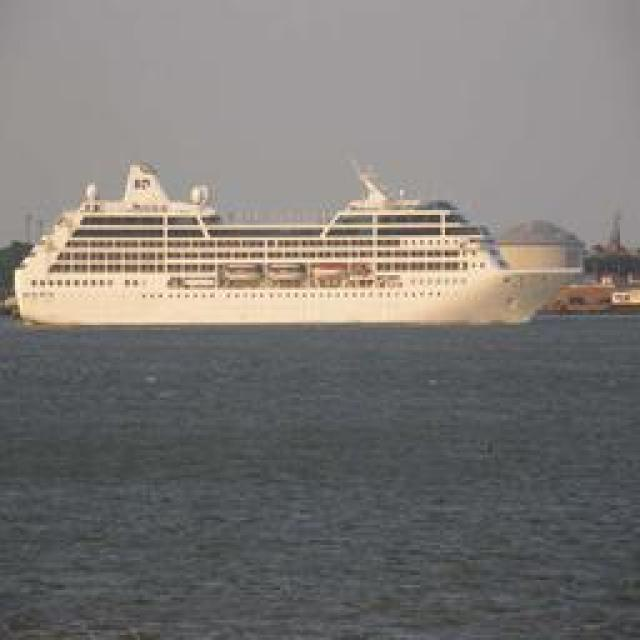ship2: (13, 162, 586, 329)
